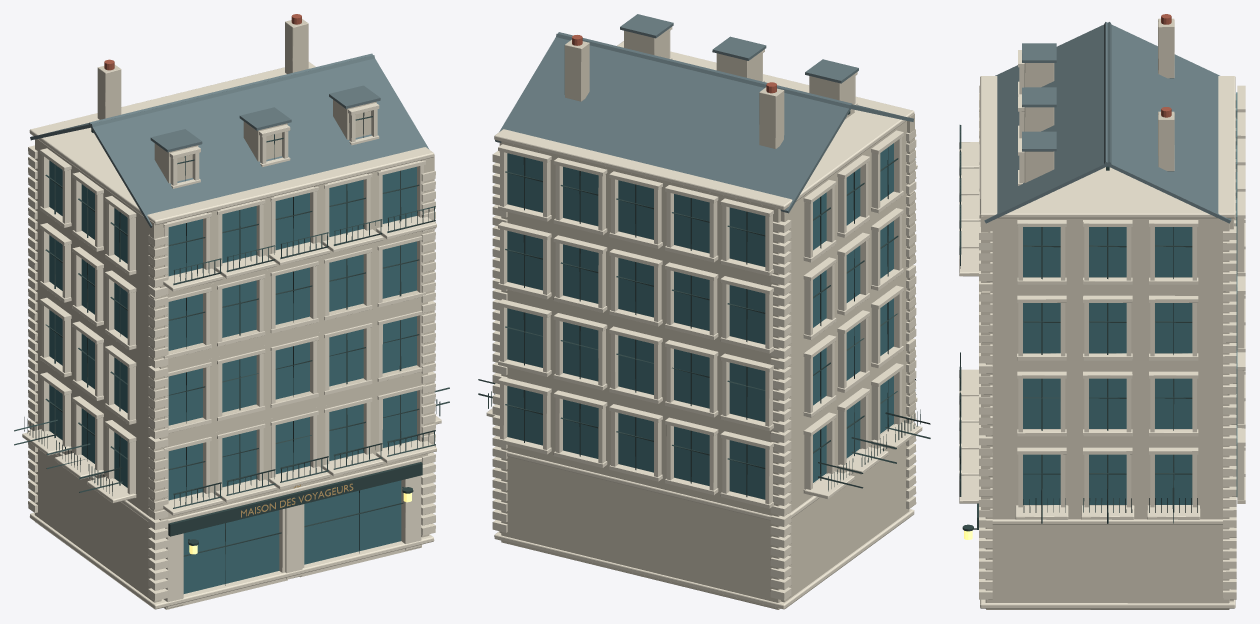
The model's file is Maison-lod.glb.
3 views of the same model, side by side, from view 1: azimuth 30°, elevation 25°; view 2: azimuth 150°, elevation 25°; view 3: azimuth 270°, elevation 25° (orthographic). The views are drawn at different scales.
Visible parts, largest first — view 1: Maison_Carved ivory.001, Maison_Window blue.001, Maison_Paris limestone.001, Maison_Zinc slate.001, Maison_Forged midnight.001; view 2: Maison_Carved ivory.001, Maison_Paris limestone.001, Maison_Window blue.001, Maison_Zinc slate.001, Maison_Forged midnight.001; view 3: Maison_Paris limestone.001, Maison_Carved ivory.001, Maison_Zinc slate.001, Maison_Window blue.001, Maison_Forged midnight.001.
Boxes of the visible parts, x1,y1,x2,y2 form: Maison_Carved ivory.001: [22, 62, 441, 609]; Maison_Window blue.001: [49, 160, 416, 593]; Maison_Paris limestone.001: [34, 19, 434, 605]; Maison_Zinc slate.001: [30, 53, 429, 227]; Maison_Forged midnight.001: [14, 112, 449, 585]; Maison_Carved ivory.001: [486, 27, 922, 609]; Maison_Paris limestone.001: [499, 29, 914, 609]; Maison_Window blue.001: [507, 143, 893, 499]; Maison_Zinc slate.001: [495, 14, 913, 213]; Maison_Forged midnight.001: [478, 111, 930, 496]; Maison_Paris limestone.001: [981, 18, 1233, 609]; Maison_Carved ivory.001: [959, 50, 1245, 608]; Maison_Zinc slate.001: [984, 22, 1231, 223]; Maison_Window blue.001: [1023, 92, 1237, 504]; Maison_Forged midnight.001: [959, 125, 1197, 531].
Bounding box in the file's own units: 24.91 × 30.41 × 16.44.
